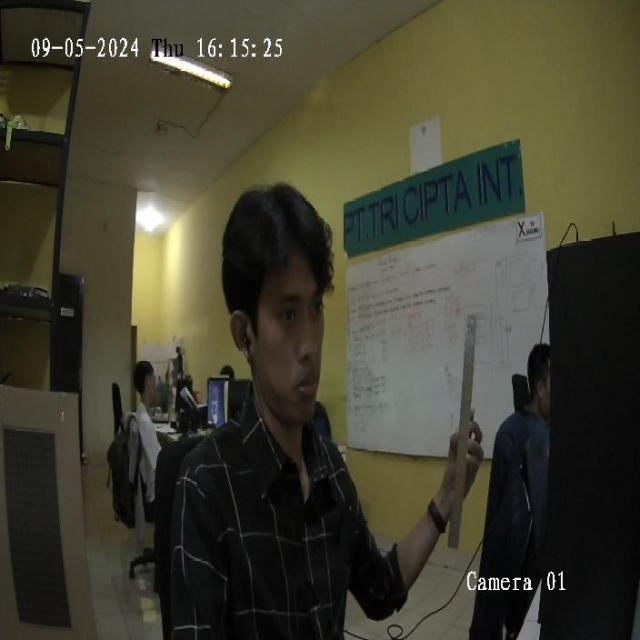Ruler: (447, 314, 475, 548)
